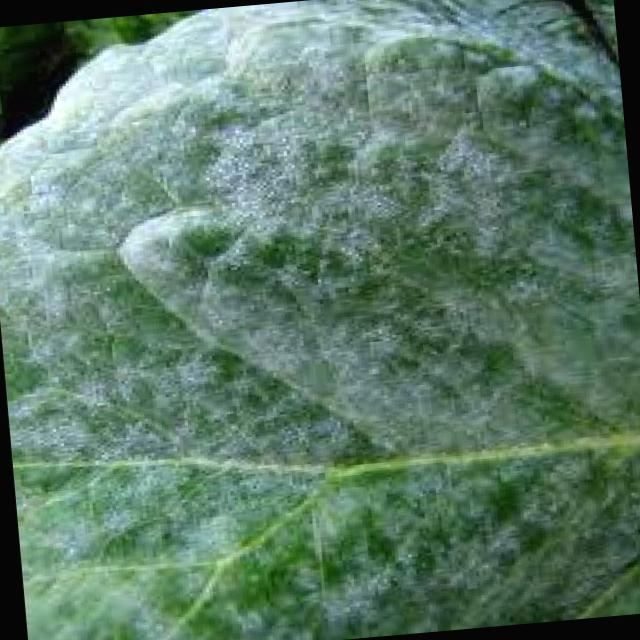Powdery_Mildew: (66, 39, 618, 623)
